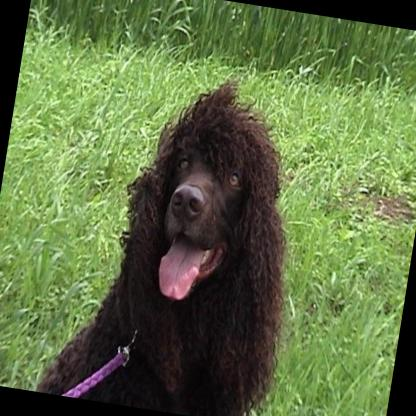Irish_water_spaniel: (30, 57, 318, 416)
